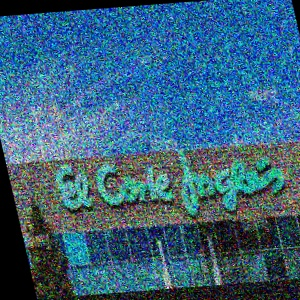corte_ingles: (241, 70, 300, 220)
